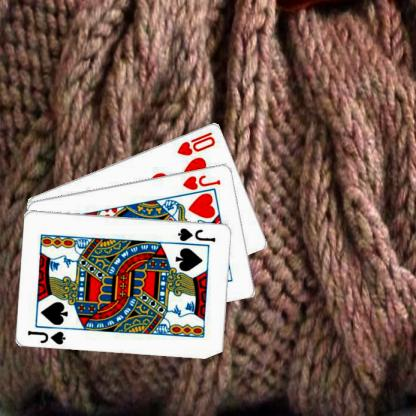10H: (174, 129, 216, 156)
JH: (180, 172, 222, 191)
JS: (176, 225, 216, 243), (25, 328, 67, 345)
